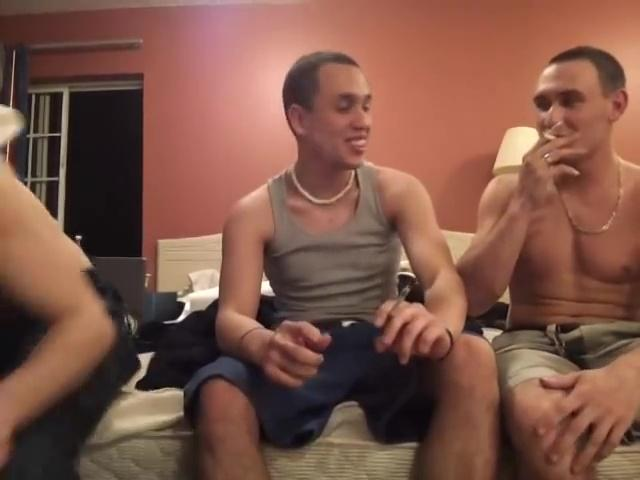cigarette: (386, 283, 412, 319), (540, 132, 558, 140)
